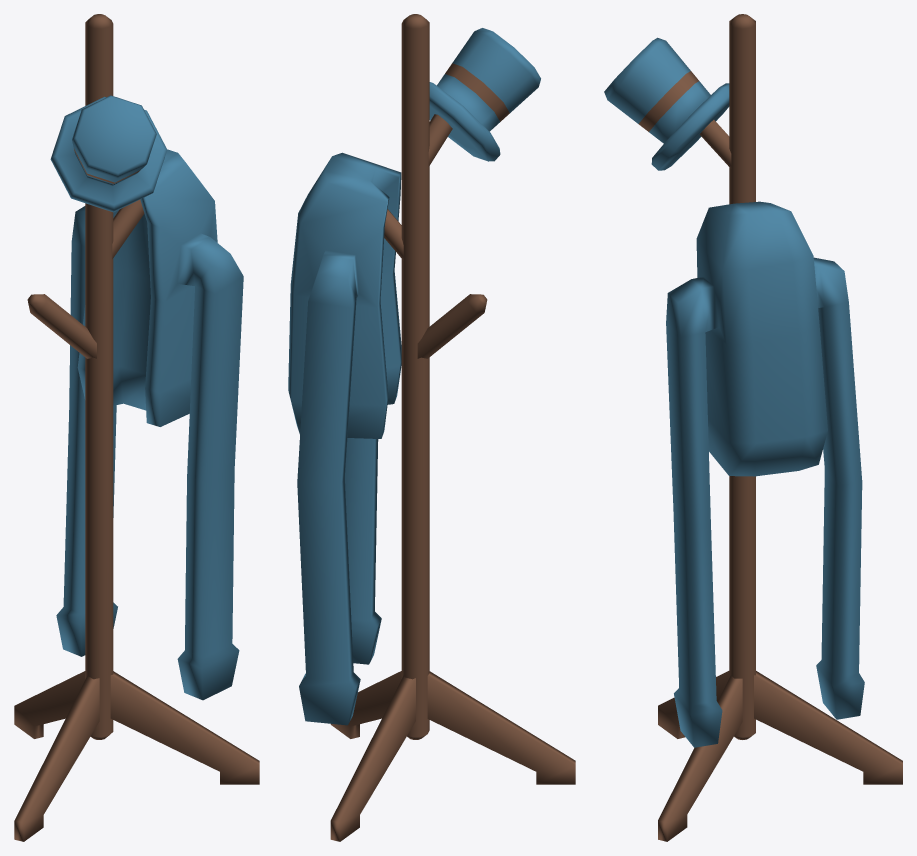
The model's file is mesh_coatrack_01.fbx.
The picture shows the model from 3 angles, left to right: view 1: azimuth 30°, elevation 25°; view 2: azimuth 150°, elevation 25°; view 3: azimuth 270°, elevation 25°; orthographic projection.
Parts seen in each view (by area): view 1: mesh_coatrack_01; view 2: mesh_coatrack_01; view 3: mesh_coatrack_01.
Part boxes in pixels (x1=…): mesh_coatrack_01: x1=14, y1=14, x2=259, y2=841; mesh_coatrack_01: x1=288, y1=14, x2=575, y2=841; mesh_coatrack_01: x1=604, y1=14, x2=902, y2=841.
Bounding box in the file's own units: 20.19 × 60.24 × 21.32.
